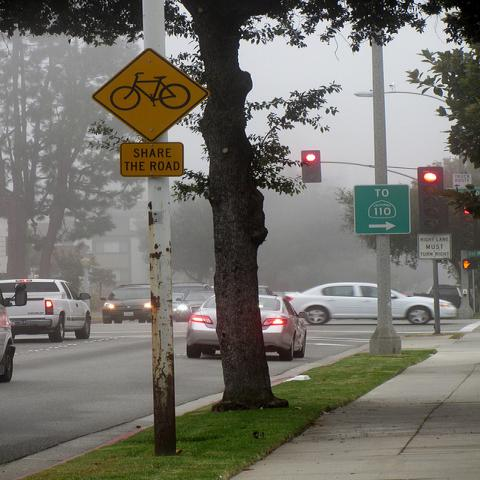car: (187, 292, 310, 360), (282, 283, 458, 324), (1, 284, 29, 382), (100, 284, 151, 322), (173, 290, 217, 320), (427, 284, 462, 308), (171, 283, 214, 292), (172, 293, 186, 311)
truck: (0, 279, 93, 342)
